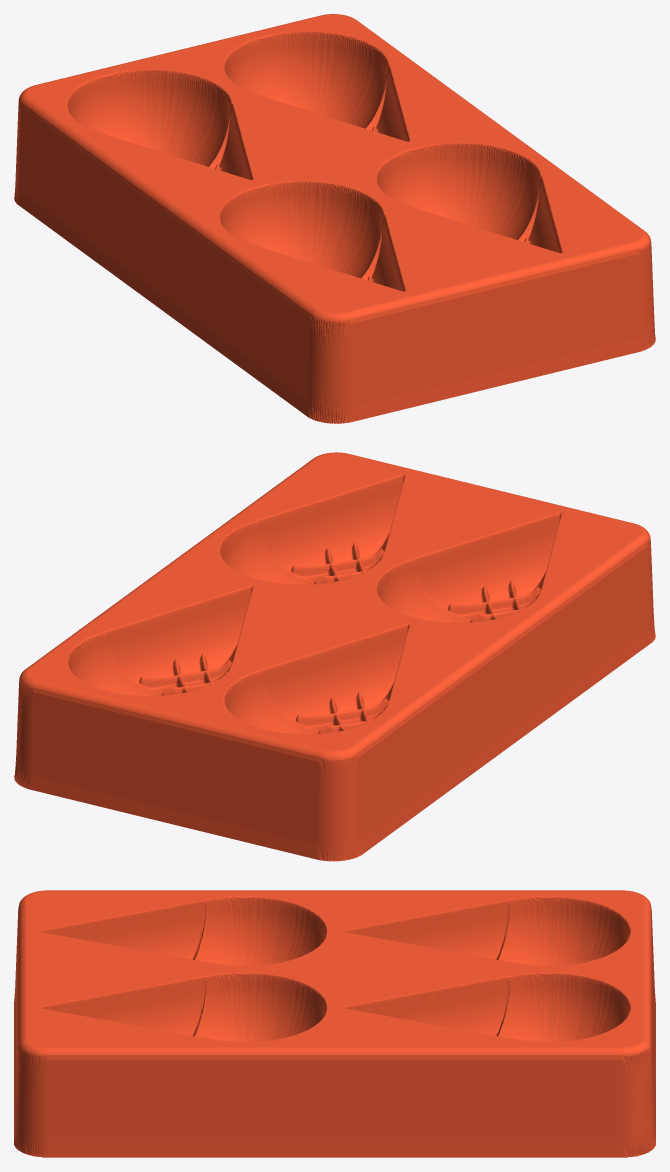
File: mold.glb
The picture shows the model from 3 angles, top to bottom: view 1: azimuth 30°, elevation 25°; view 2: azimuth 150°, elevation 25°; view 3: azimuth 270°, elevation 25°; orthographic projection.
Visible parts, largest first — view 1: geometry_0; view 2: geometry_0; view 3: geometry_0.
Boxes of the visible parts, left/top/right/bottom form: geometry_0: left=14, top=14, right=655, bottom=423; geometry_0: left=14, top=452, right=655, bottom=861; geometry_0: left=14, top=890, right=655, bottom=1157.
Bounding box in the file's own units: 0.1061 × 0.031 × 0.1721.
